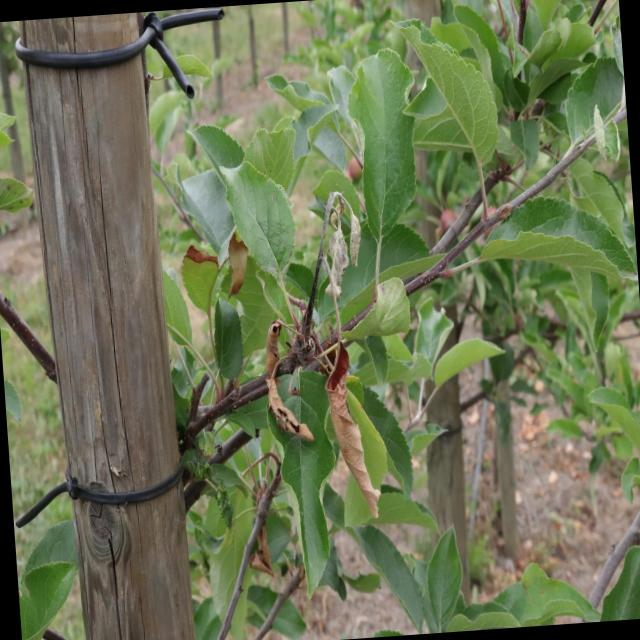-FireBlight-: (307, 310, 385, 507), (258, 315, 312, 442)
